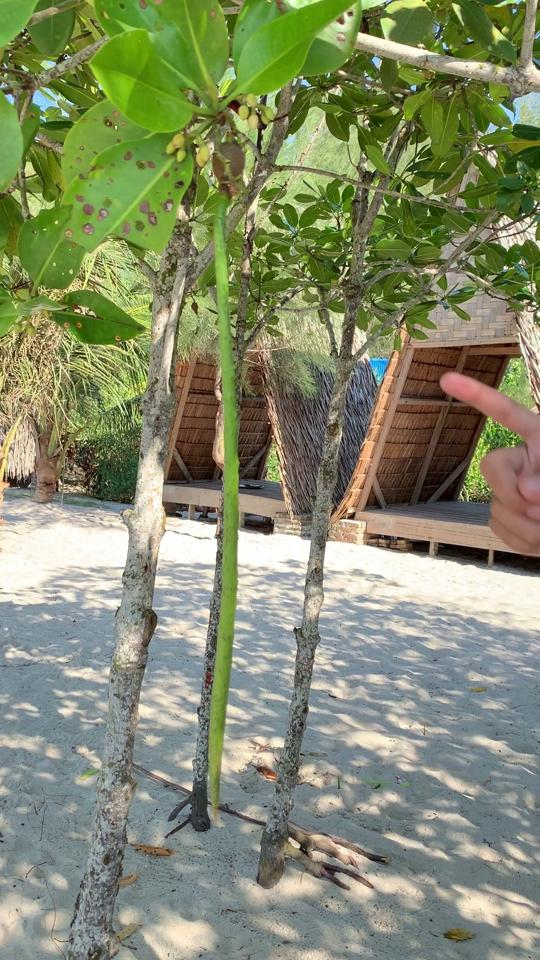mentah: (194, 133, 243, 832)
